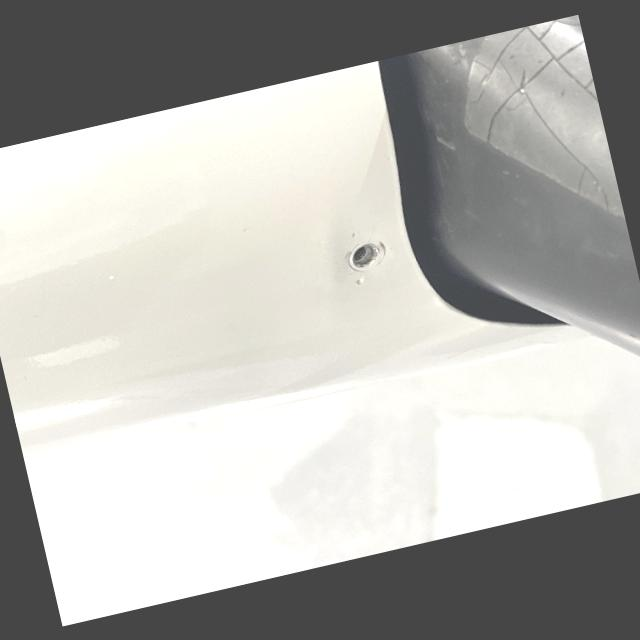Missing Fastener: (336, 237, 388, 277)
